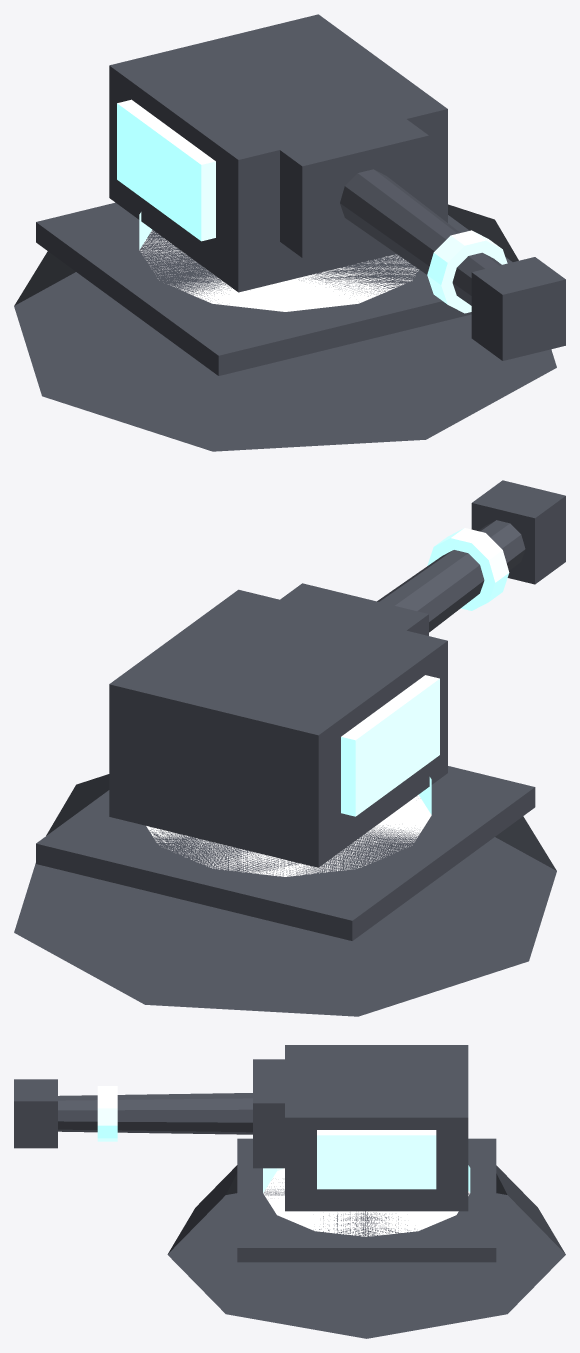
File: turret.glb
3 renders of one model, top to bottom at view 1: azimuth 30°, elevation 25°; view 2: azimuth 150°, elevation 25°; view 3: azimuth 270°, elevation 25°, orthographic. The views are drawn at different scales.
Parts seen in each view (by area): view 1: Base, Head, Barrel; view 2: Base, Head, Barrel; view 3: Base, Head, Barrel.
Part boxes in pixels (x1=…): Base: x1=14, y1=202, x2=556, y2=451; Head: x1=109, y1=14, x2=447, y2=292; Barrel: x1=340, y1=169, x2=565, y2=360; Base: x1=14, y1=766, x2=556, y2=1016; Head: x1=109, y1=583, x2=447, y2=867; Barrel: x1=377, y1=480, x2=565, y2=632; Base: x1=167, y1=1138, x2=565, y2=1338; Head: x1=253, y1=1045, x2=468, y2=1211; Barrel: x1=14, y1=1079, x2=252, y2=1148.
Size of the model in its own units: 2 by 0.96 by 2.77.
